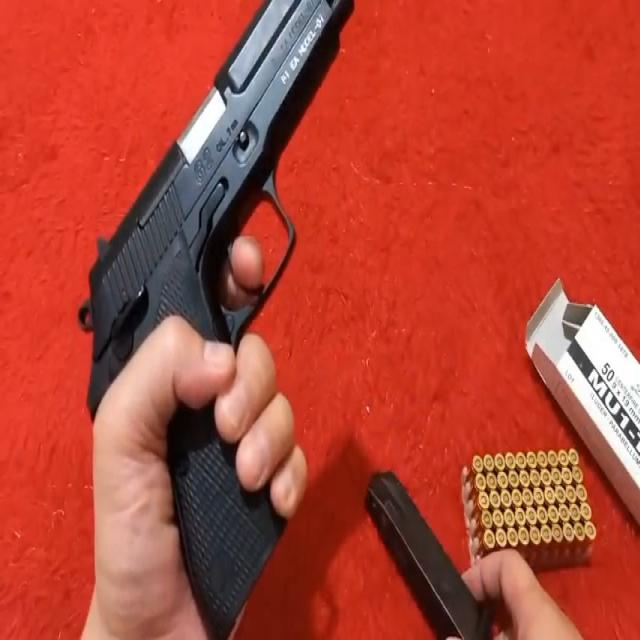handgun: (74, 0, 359, 640)
